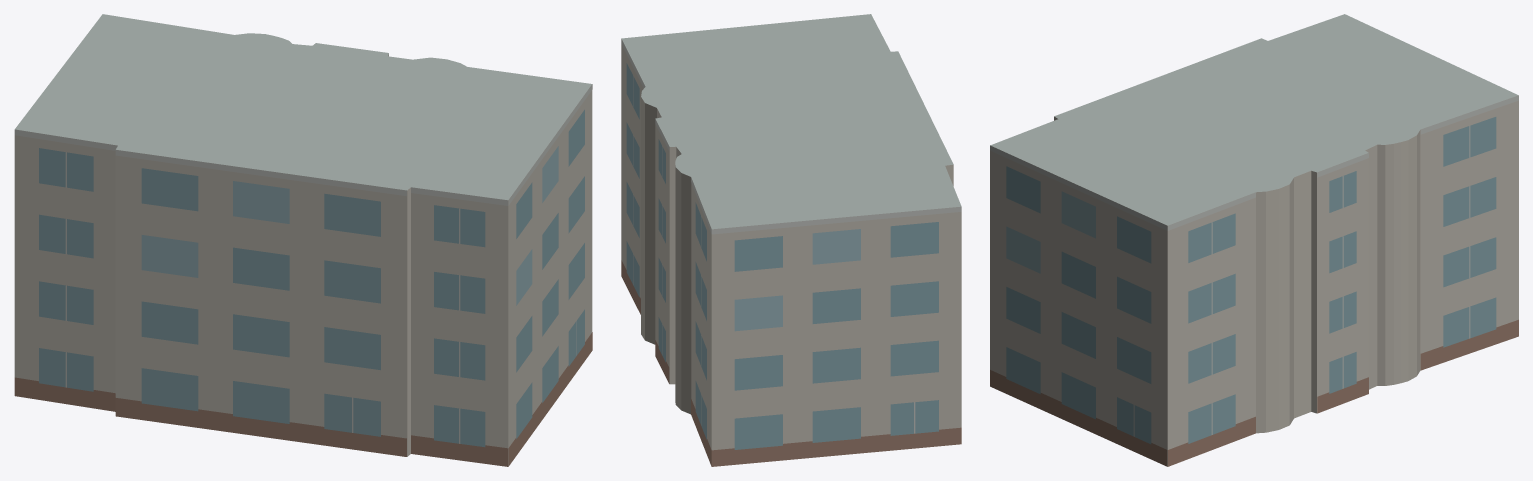
The model's file is survey-upis-32693203.glb.
3 renders of one model, left to right at view 1: azimuth 30°, elevation 25°; view 2: azimuth 150°, elevation 25°; view 3: azimuth 270°, elevation 25°, orthographic. The views are drawn at different scales.
Visible parts, largest first — view 1: survey-upis-32693203.tmp; view 2: survey-upis-32693203.tmp; view 3: survey-upis-32693203.tmp.
Boxes of the visible parts, x1,y1,x2,y2 form: survey-upis-32693203.tmp: [14, 14, 592, 466]; survey-upis-32693203.tmp: [621, 14, 961, 466]; survey-upis-32693203.tmp: [990, 14, 1518, 466].
Size of the model in its own units: 21.1 by 11.2 by 22.26.
